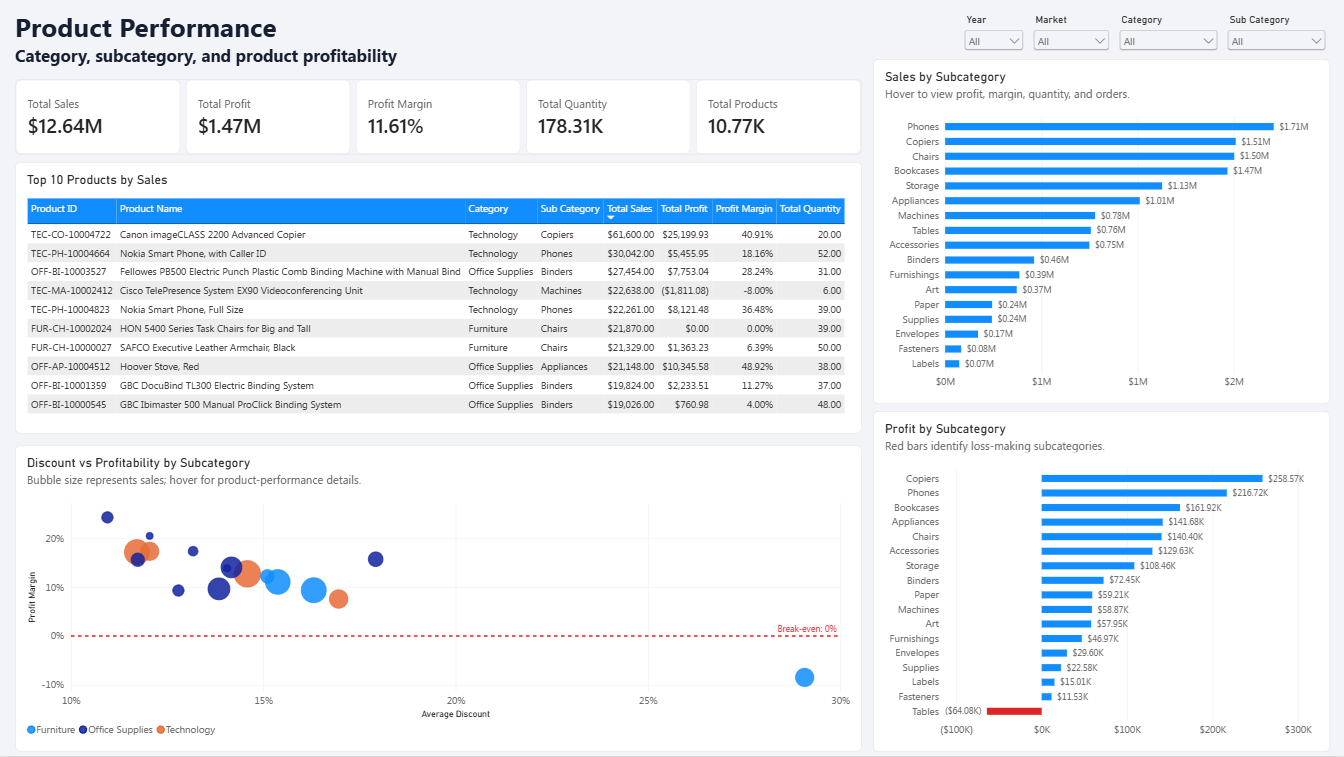

The page's visual inventory and layout, read from the dashboard file:
{"tool":"powerbi","page":{"name":"Product Performance","canvas":[1920,1080],"ordinal":2},"visuals":[{"type":"textbox","box":[21.7,13.3,1275,100],"z":0},{"type":"slicer","fields":{"Values":["DimDate.Year"]},"box":[1372.6,19.7,94.4,73.3],"z":1000},{"type":"slicer","fields":{"Values":["DimLocation.Market"]},"box":[1471.5,19.7,117.8,65.6],"z":2000},{"type":"slicer","fields":{"Values":["DimProduct.Category"]},"box":[1594.8,19.7,150,62.2],"z":3000},{"type":"slicer","fields":{"Values":["DimProduct.Sub Category"]},"box":[1749.3,19.7,150,73.3],"z":4000},{"type":"cardVisual","fields":{"Data":["_Measures.Total Sales","_Measures.Total Profit","_Measures.Profit Margin","_Measures.Total Quantity","_Measures.Total Products"]},"box":[21.7,113.3,1210,108.3],"z":5000},{"type":"clusteredBarChart","title":"Sales by Subcategory","fields":{"Category":["DimProduct.Sub Category"],"Y":["_Measures.Total Sales"]},"box":[1246.7,85,653.3,493.3],"z":6000},{"type":"clusteredBarChart","title":"Profit by Subcategory","fields":{"Category":["DimProduct.Sub Category"],"Y":["_Measures.Total Profit"]},"box":[1246.7,586.7,653.3,486.7],"z":7000},{"type":"tableEx","title":"Top 10 Products by Sales","fields":{"Values":["DimProduct.Product ID","DimProduct.Product Name","DimProduct.Category","DimProduct.Sub Category","_Measures.Total Sales","_Measures.Total Profit","_Measures.Profit Margin","_Measures.Total Quantity"]},"box":[21.7,231.7,1210,388.3],"z":8000},{"type":"scatterChart","title":"Discount vs Profitability by Subcategory","fields":{"Category":["DimProduct.Sub Category"],"Series":["DimProduct.Category"],"Size":["_Measures.Total Sales"],"X":["_Measures.Average Discount"],"Y":["_Measures.Profit Margin"]},"box":[21.7,635,1210,438.3],"z":9000}]}

Visuals, with their boxes in screenshot pixels (x1, y1, x2, y2), scaled from the page's 1920x1080 canvas onto the 1344x757 screenshot:
textbox: select_region(15, 9, 908, 79)
slicer - DimDate.Year: select_region(961, 14, 1027, 65)
slicer - DimLocation.Market: select_region(1030, 14, 1113, 60)
slicer - DimProduct.Category: select_region(1116, 14, 1221, 57)
slicer - DimProduct.Sub Category: select_region(1225, 14, 1330, 65)
cardVisual - _Measures.Total Sales x _Measures.Total Profit: select_region(15, 79, 862, 155)
"Sales by Subcategory" clusteredBarChart: select_region(873, 60, 1330, 405)
"Profit by Subcategory" clusteredBarChart: select_region(873, 411, 1330, 752)
"Top 10 Products by Sales" tableEx: select_region(15, 162, 862, 435)
"Discount vs Profitability by Subcategory" scatterChart: select_region(15, 445, 862, 752)
